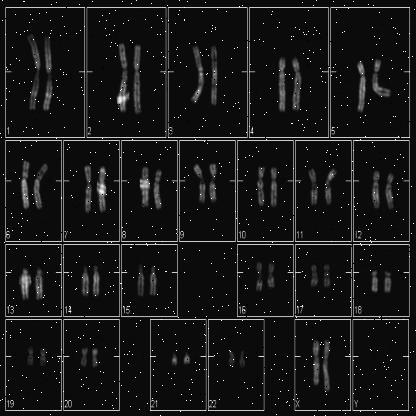1: (25, 31, 43, 112), (41, 35, 55, 113)
10: (268, 166, 280, 210), (256, 164, 266, 208)
11: (306, 168, 319, 206), (324, 168, 337, 206)
12: (370, 168, 382, 210), (386, 170, 396, 212)
13: (18, 265, 32, 303), (33, 266, 46, 302)
14: (80, 264, 92, 299), (90, 262, 102, 297)
15: (148, 264, 158, 298), (136, 266, 146, 298)
16: (266, 262, 277, 290), (256, 262, 263, 292)
17: (322, 262, 331, 290), (309, 263, 318, 289)
18: (370, 268, 379, 296), (384, 269, 394, 294)
19: (26, 342, 35, 368), (39, 345, 48, 368)
2: (116, 40, 130, 115), (132, 42, 143, 117)
20: (90, 345, 100, 368), (80, 346, 88, 368)
21: (171, 350, 178, 370), (182, 352, 190, 367)
22: (238, 349, 248, 372), (228, 349, 236, 368)
3: (189, 43, 205, 104), (209, 42, 220, 108)
4: (291, 56, 302, 113), (278, 56, 287, 113)
5: (372, 57, 393, 99), (354, 58, 368, 113)
6: (32, 162, 49, 210), (20, 158, 31, 210)
7: (82, 162, 94, 214), (97, 164, 108, 216)
8: (138, 163, 152, 209), (153, 169, 164, 211)
9: (192, 161, 208, 205), (207, 160, 219, 204)
X: (322, 338, 334, 394), (311, 337, 322, 387)
